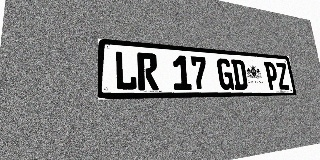1: (172, 55, 192, 90)
7: (189, 56, 209, 90)
D: (231, 59, 248, 90)
G: (216, 58, 234, 90)
L: (114, 51, 137, 90)
P: (264, 61, 279, 90)
R: (137, 52, 159, 90)
Z: (275, 62, 290, 89)
